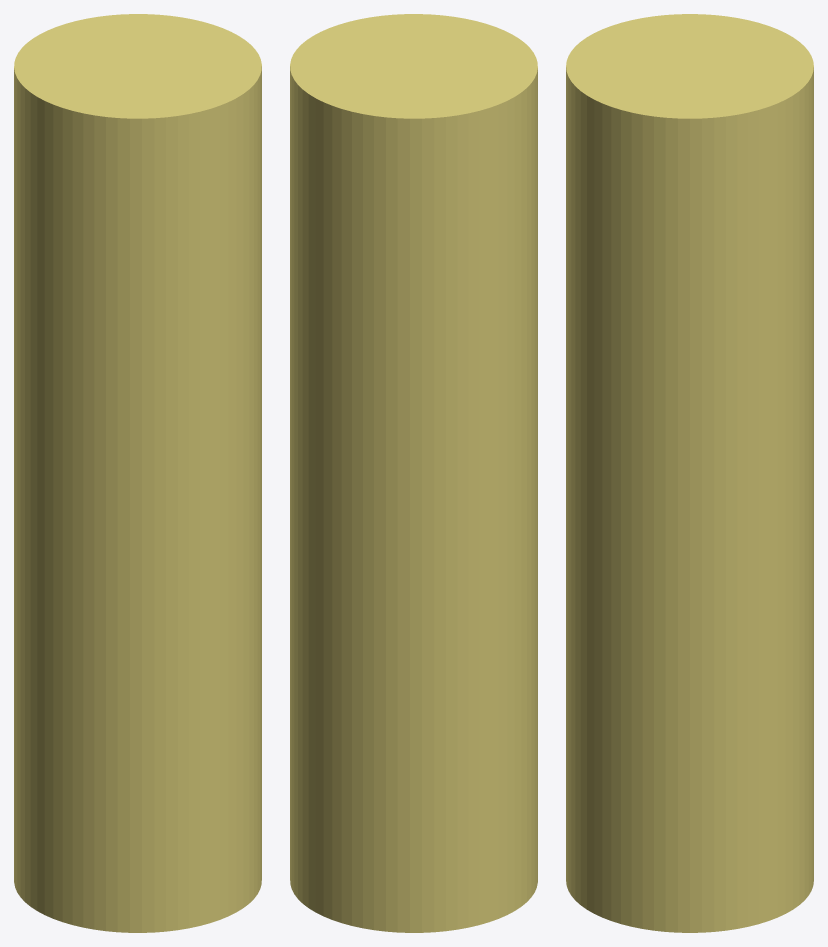
The picture shows the model from 3 angles, left to right: view 1: azimuth 30°, elevation 25°; view 2: azimuth 150°, elevation 25°; view 3: azimuth 270°, elevation 25°; orthographic projection.
Parts seen in each view (by area): view 1: Cylinder.003; view 2: Cylinder.003; view 3: Cylinder.003.
Boxes of the visible parts, x1,y1,x2,y2 form: Cylinder.003: [14, 14, 261, 932]; Cylinder.003: [290, 14, 537, 932]; Cylinder.003: [566, 14, 813, 932].
Bounding box in the file's own units: 2 × 7.25 × 2.
